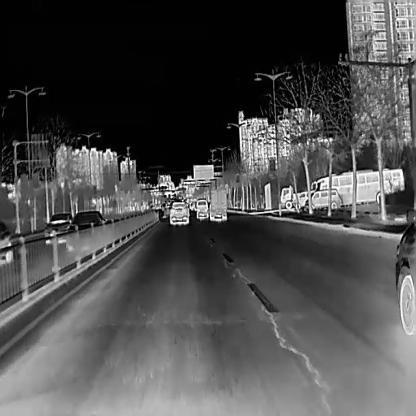car: (310, 169, 383, 207), (65, 208, 108, 246), (43, 212, 73, 244), (303, 188, 342, 210), (381, 168, 404, 194), (208, 189, 226, 221), (280, 184, 301, 209), (166, 201, 188, 224), (293, 188, 316, 208), (194, 198, 207, 218)
